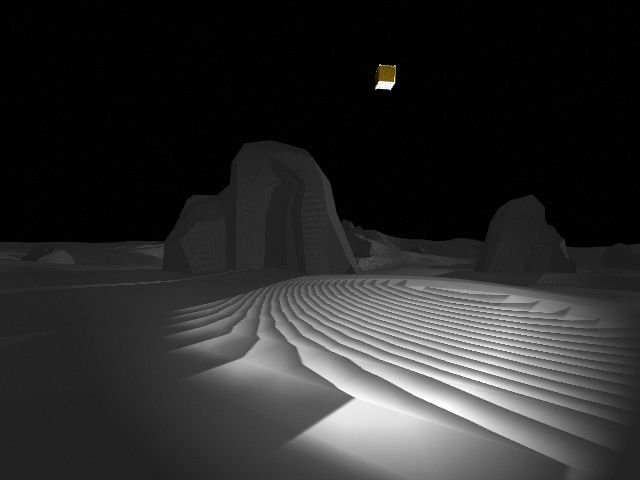cubesat: (371, 61, 400, 95)
